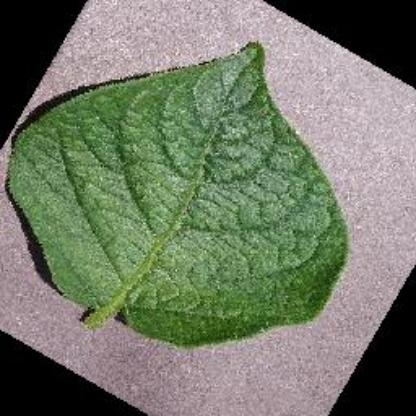Healthy-plant: (6, 31, 378, 407)
